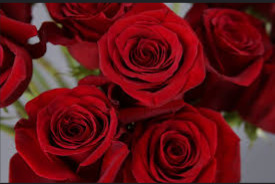RedRose: (13, 76, 128, 182), (93, 1, 203, 103), (132, 98, 243, 184), (193, 3, 273, 103), (40, 2, 126, 70)
